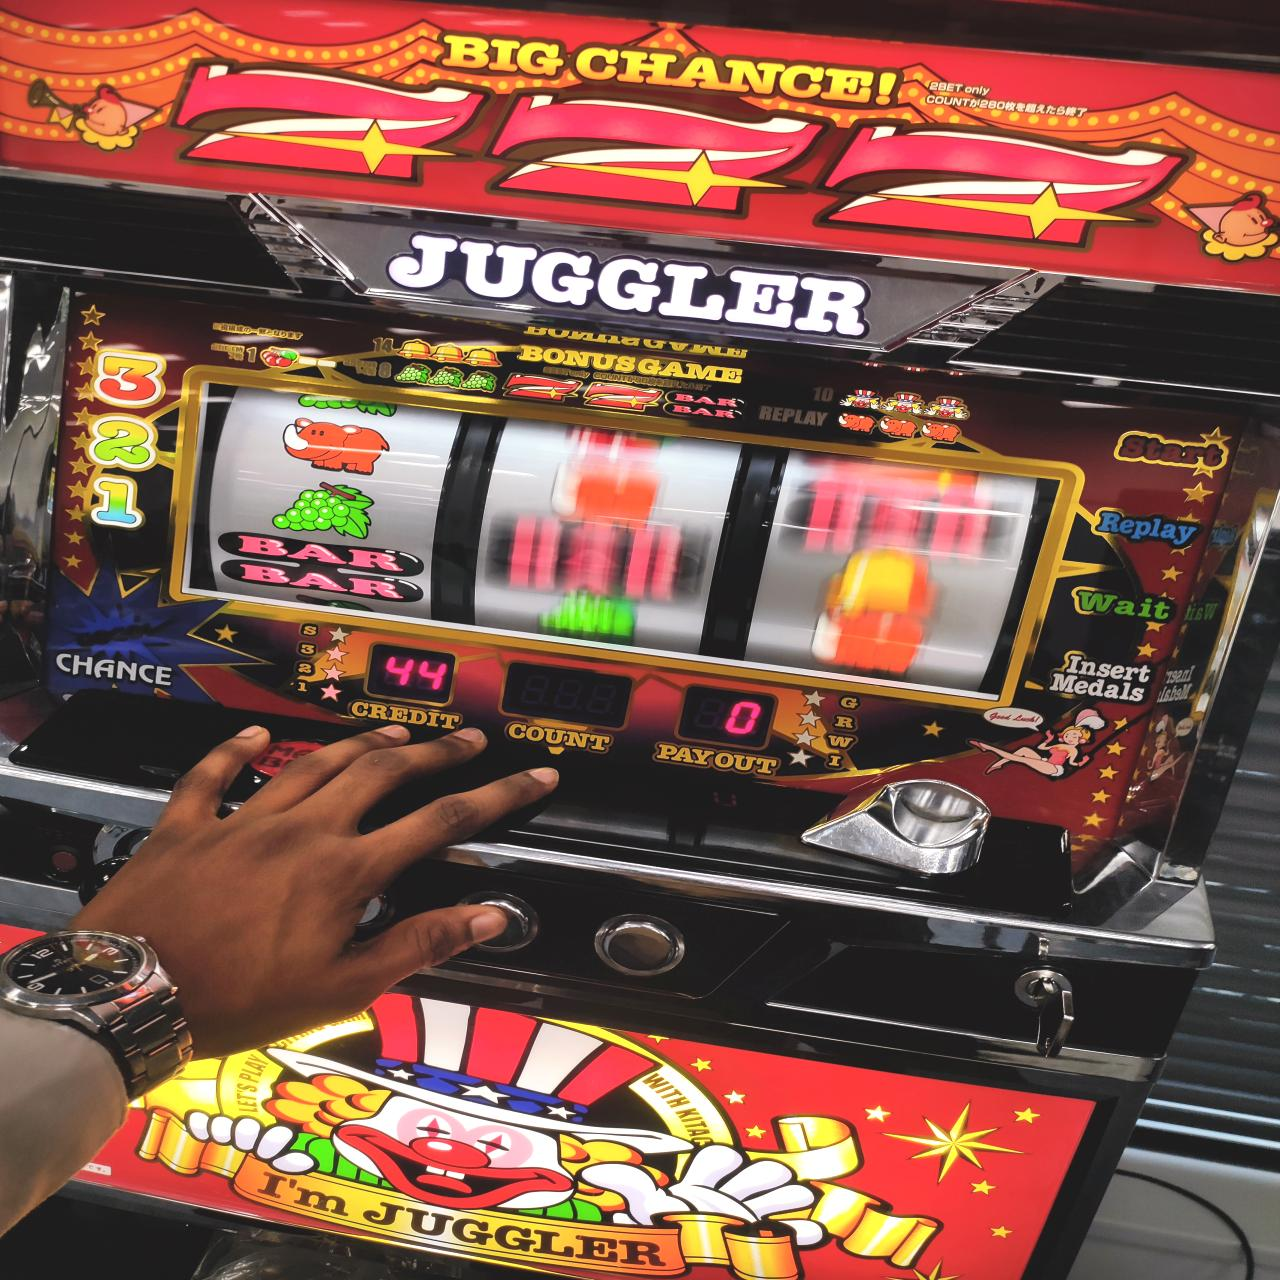8: (275, 417, 395, 476)
bar: (218, 532, 425, 602)
grape: (273, 478, 377, 536)
rhino: (202, 388, 1035, 700)
